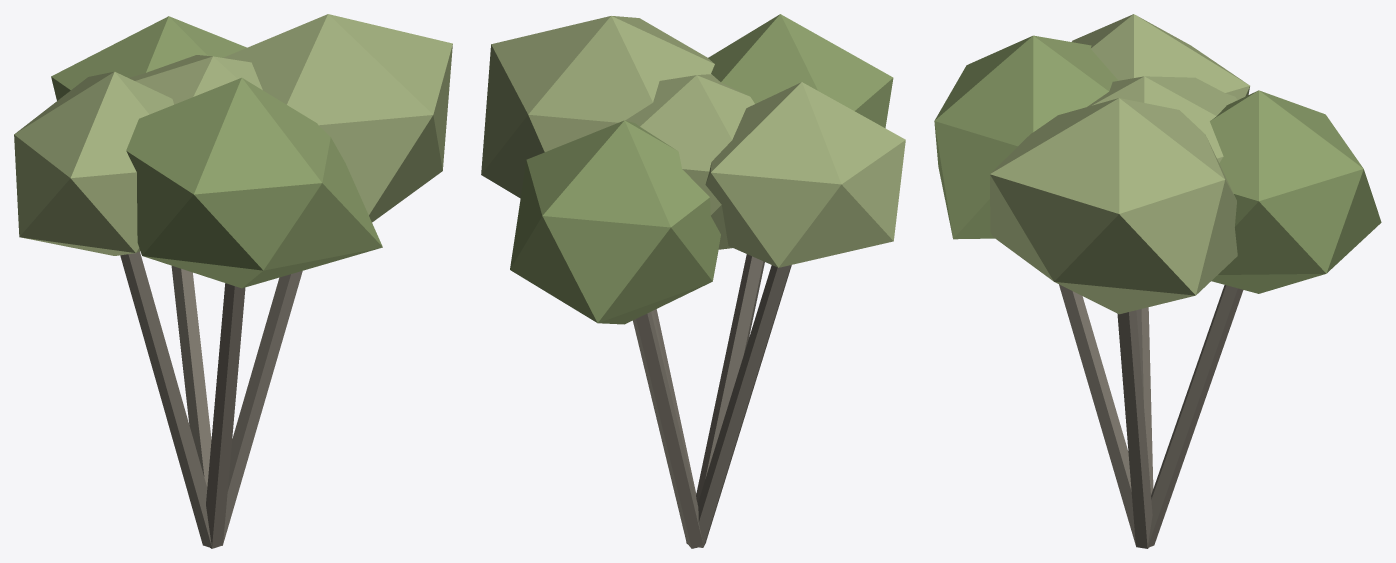
The model's file is salg_1.glb.
The picture shows the model from 3 angles, left to right: view 1: azimuth 30°, elevation 25°; view 2: azimuth 150°, elevation 25°; view 3: azimuth 270°, elevation 25°; orthographic projection. The views are drawn at different scales.
Parts seen in each view (by area): view 1: salg_1; view 2: salg_1; view 3: salg_1.
Boxes of the visible parts, <box> form: salg_1: <box>14,14,452,548</box>; salg_1: <box>481,14,905,548</box>; salg_1: <box>934,14,1381,548</box>.
Size of the model in its own units: 4.08 by 4.73 by 3.86.
